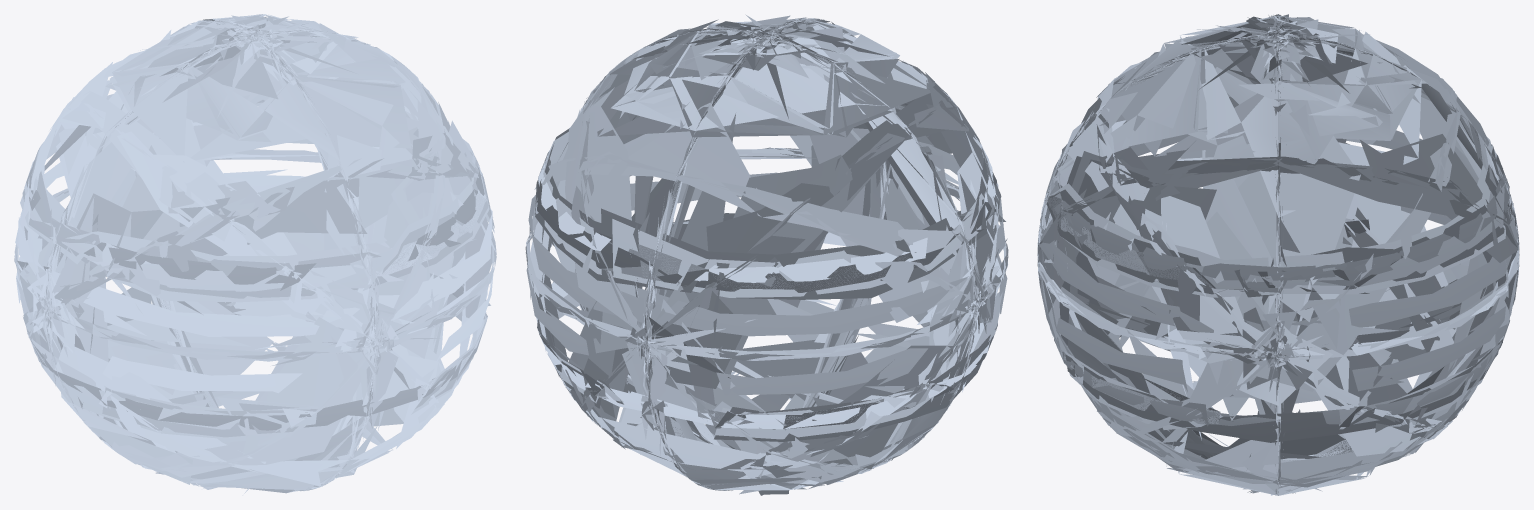
3 renders of one model, left to right at view 1: azimuth 30°, elevation 25°; view 2: azimuth 150°, elevation 25°; view 3: azimuth 270°, elevation 25°, orthographic.
Parts seen in each view (by area): view 1: 2A-7-structural; view 2: 2A-7-structural; view 3: 2A-7-structural.
Part boxes in pixels (x1,y1,x2,y2): 2A-7-structural: (14, 14, 496, 495); 2A-7-structural: (525, 14, 1008, 495); 2A-7-structural: (1037, 14, 1519, 495).
Size of the model in its own units: 2 by 2 by 2.
